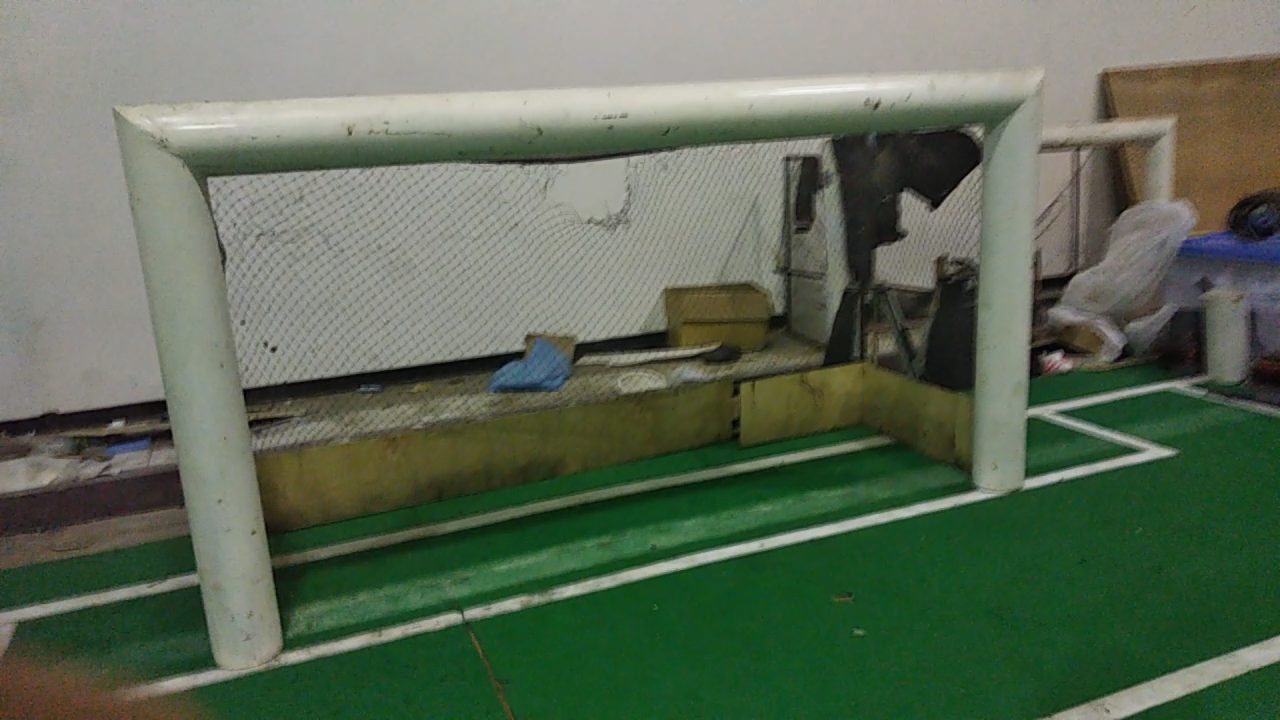gawang: (95, 62, 1054, 690)
